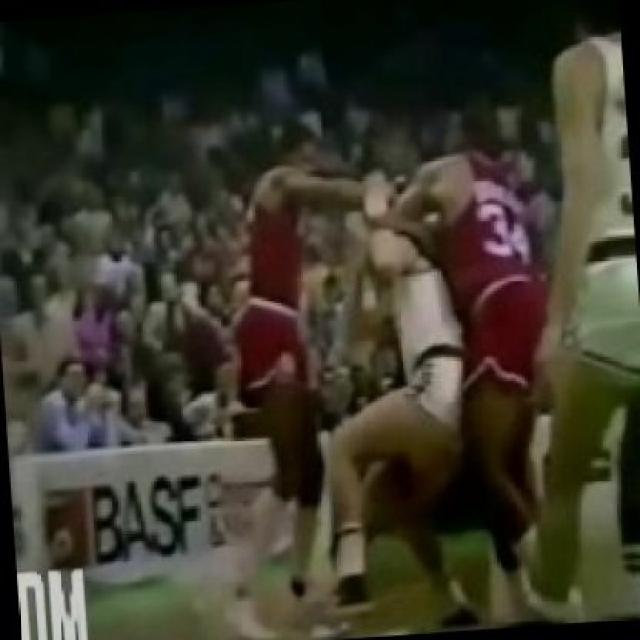fight: (217, 95, 569, 636)
